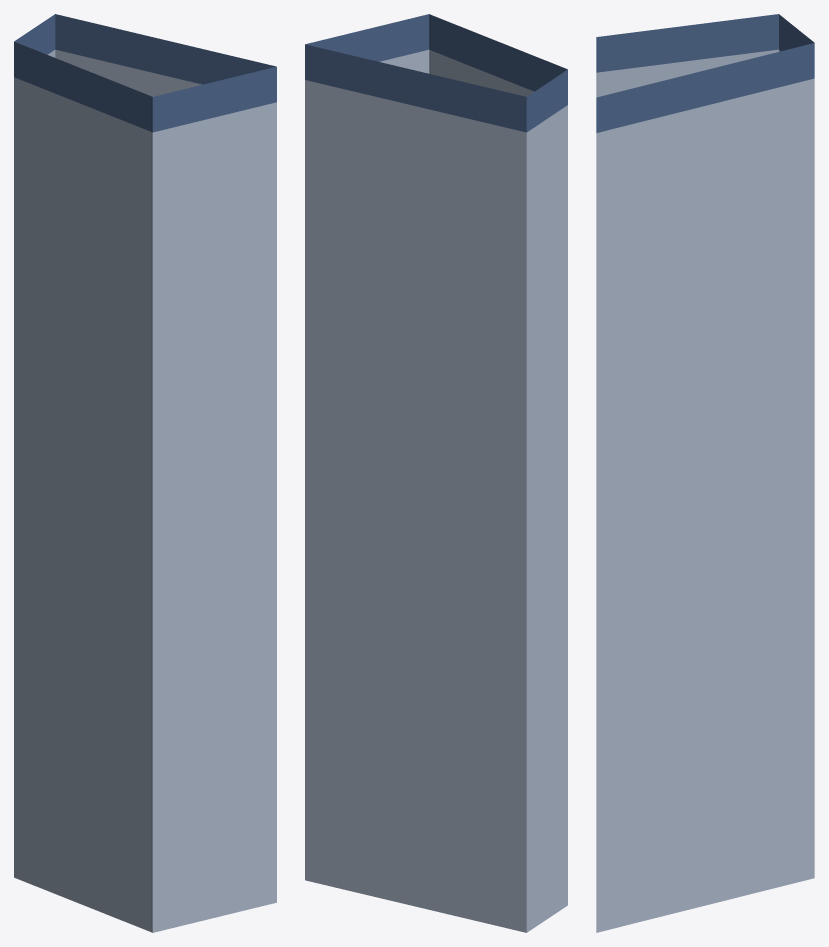
3 renders of one model, left to right at view 1: azimuth 30°, elevation 25°; view 2: azimuth 210°, elevation 25°; view 3: azimuth 270°, elevation 25°, orthographic.
Parts seen in each view (by area): view 1: Room; view 2: Room; view 3: Room.
Boxes of the visible parts, left/top/right/bottom form: Room: left=14, top=14, right=276, bottom=932; Room: left=305, top=14, right=567, bottom=932; Room: left=596, top=14, right=814, bottom=932.
Bounding box in the file's own units: 0.403 × 1.88 × 0.445.
